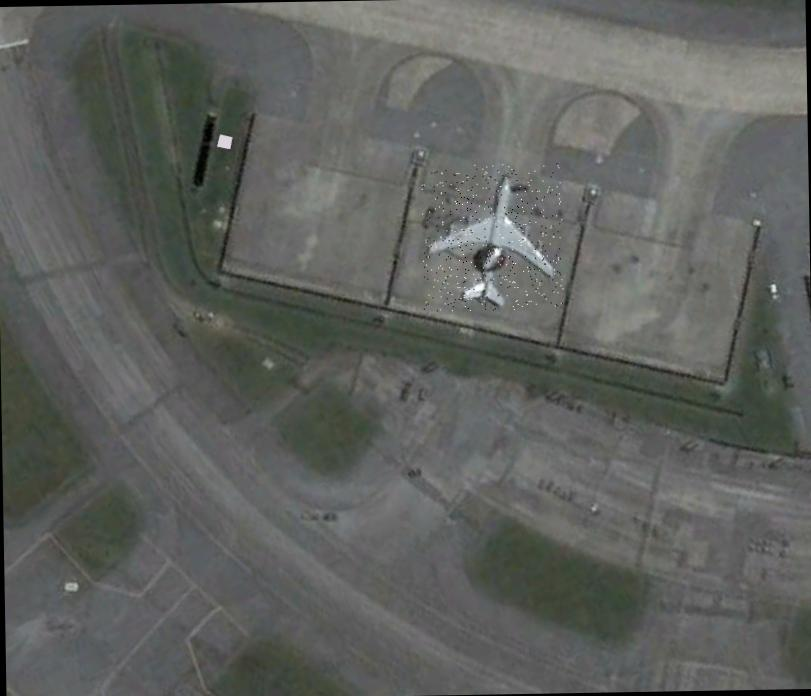A7: (420, 164, 564, 312)
